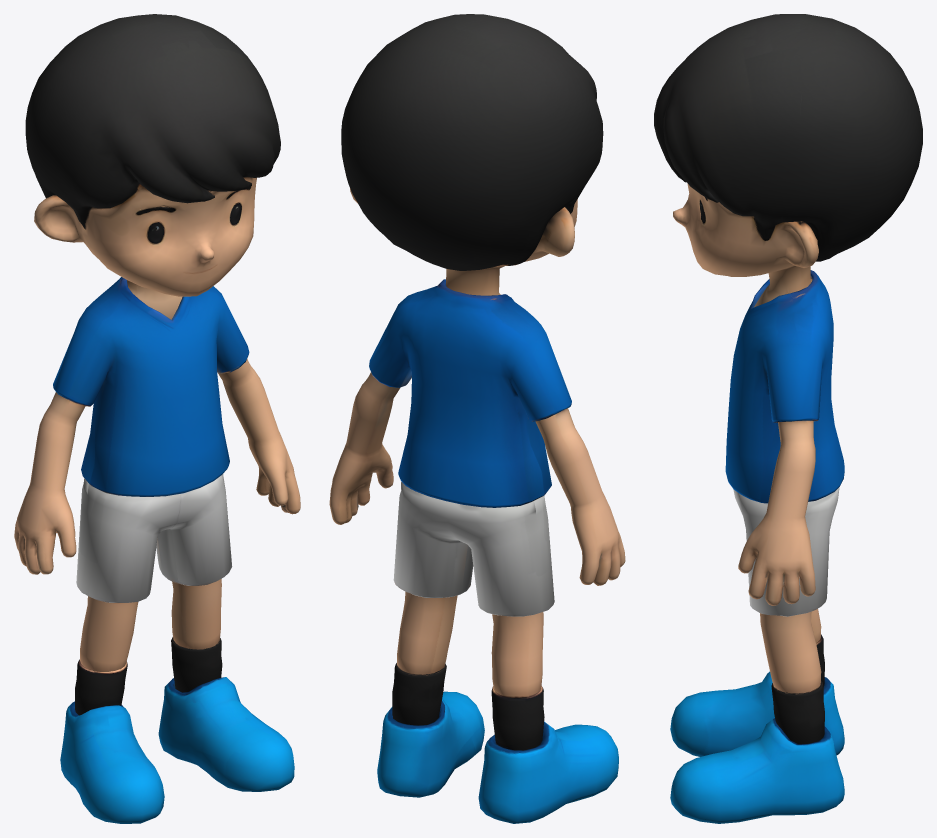
File: BlueChar.fbx
3 renders of one model, left to right at view 1: azimuth 30°, elevation 25°; view 2: azimuth 150°, elevation 25°; view 3: azimuth 270°, elevation 25°, orthographic. The views are drawn at different scales.
Visible parts, largest first — view 1: BlueCharacter; view 2: BlueCharacter; view 3: BlueCharacter.
Part boxes in pixels (box(x1,y1,x2,y2)): BlueCharacter: box(14, 14, 300, 823); BlueCharacter: box(329, 14, 625, 823); BlueCharacter: box(654, 14, 922, 823).
Bounding box in the file's own units: 0.4355 × 1.15 × 0.3714.
Materials: 1 (1 with a texture image).
